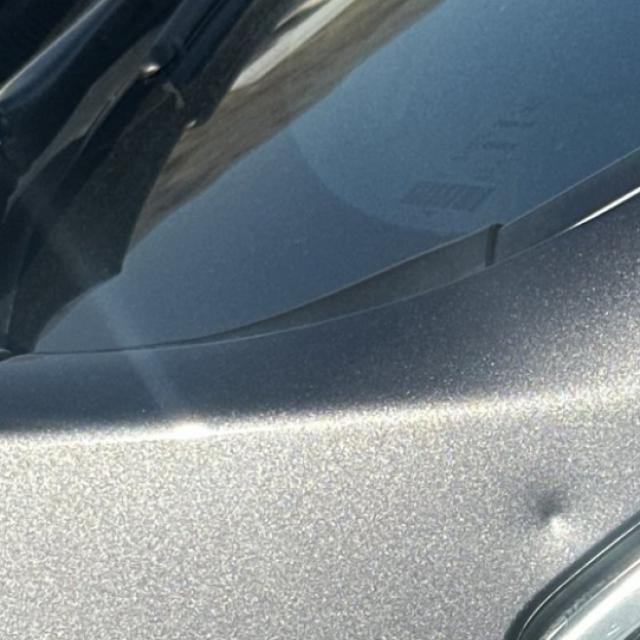dents: (519, 483, 596, 576)
